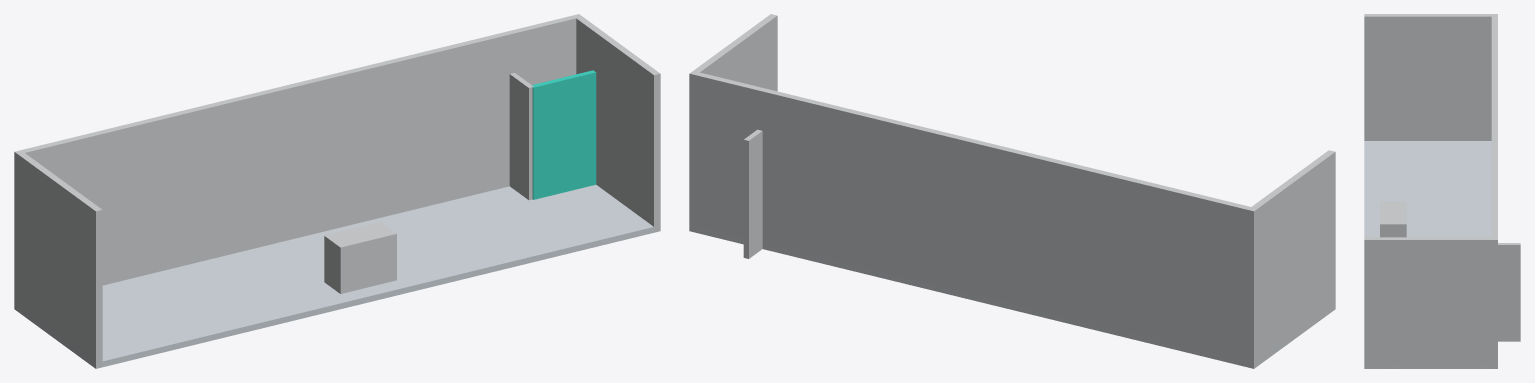
3 renders of one model, left to right at view 1: azimuth 30°, elevation 25°; view 2: azimuth 150°, elevation 25°; view 3: azimuth 270°, elevation 25°, orthographic. The views are drawn at different scales.
Visible parts, largest first — view 1: Exhibition Booth Concept; view 2: Exhibition Booth Concept; view 3: Exhibition Booth Concept.
Boxes of the visible parts, left/top/right/bottom form: Exhibition Booth Concept: left=14, top=14, right=660, bottom=368; Exhibition Booth Concept: left=689, top=14, right=1335, bottom=368; Exhibition Booth Concept: left=1364, top=14, right=1520, bottom=368.
Bounding box in the file's own units: 12 × 3.2 × 3.51.
